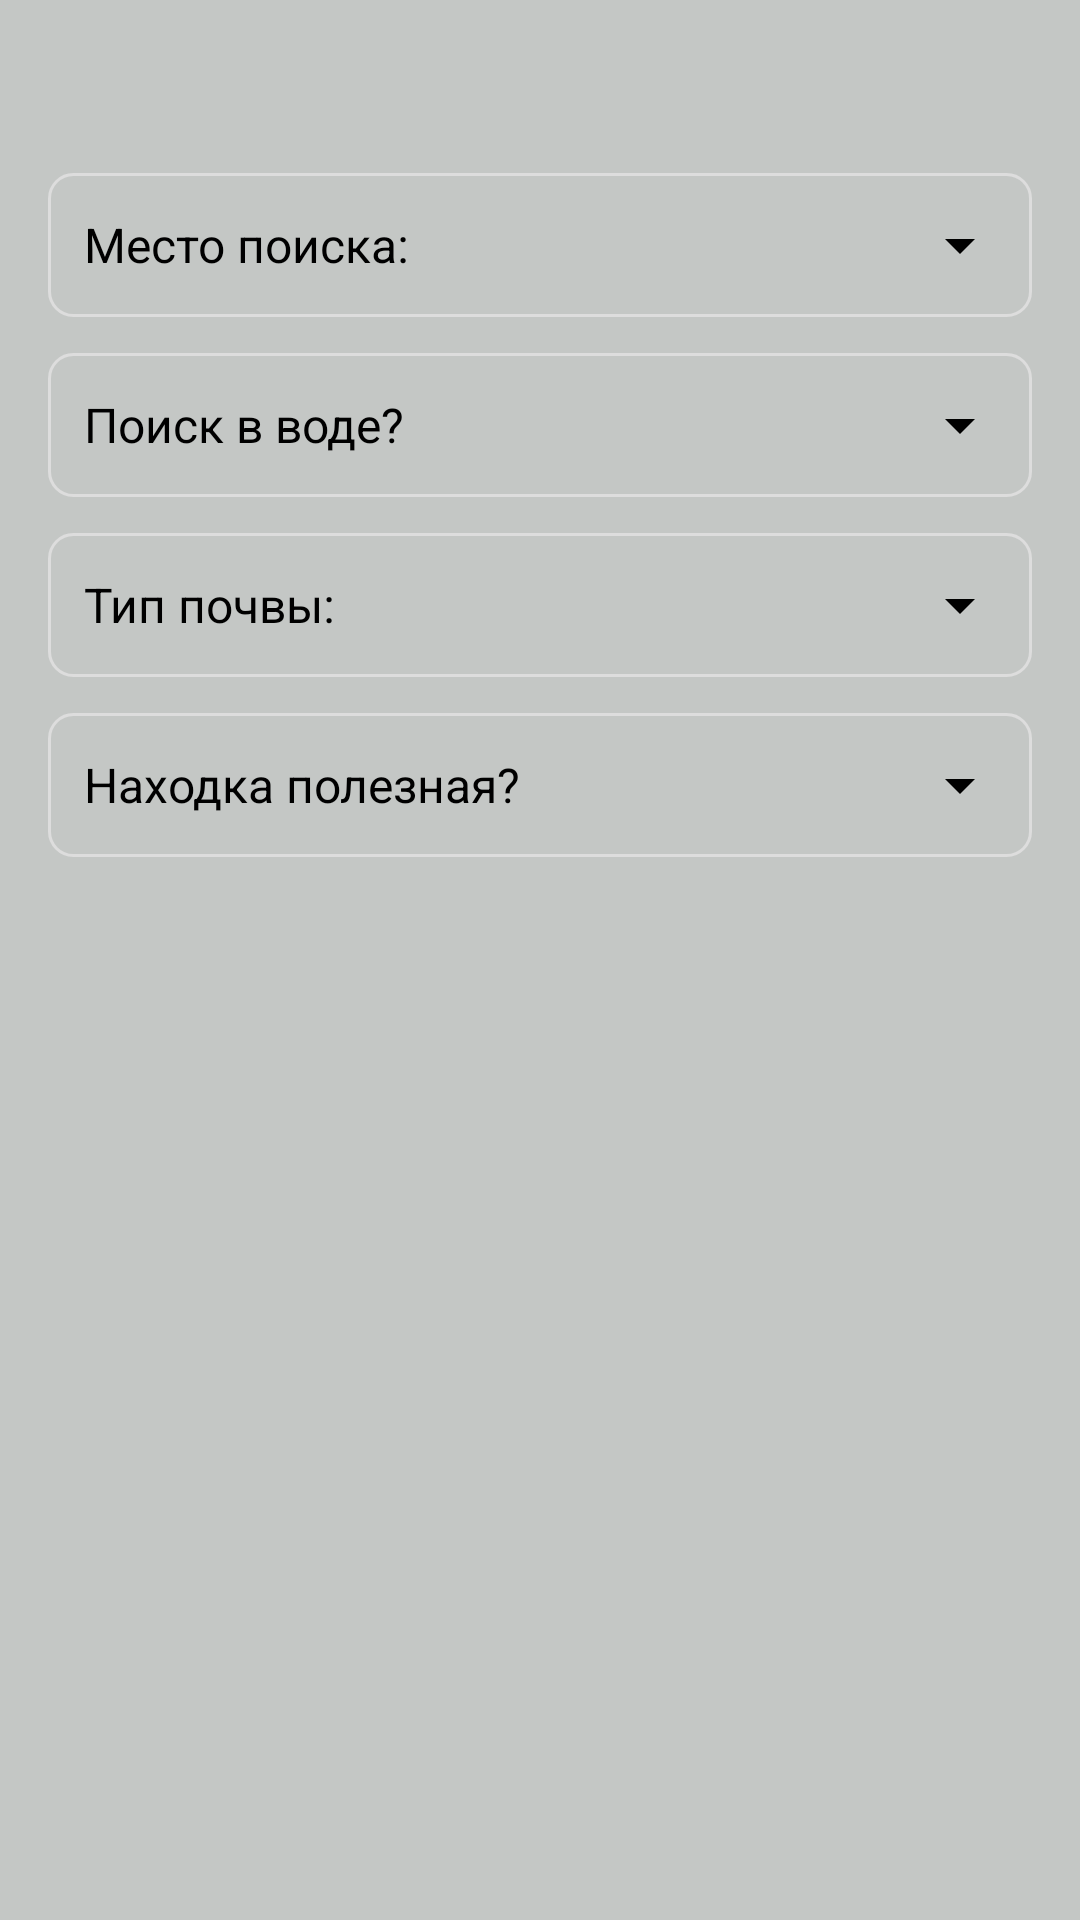

Screen size 1080px x 1920px. Icon name, then its center in pixels as [x,y]:
arrow drop down: [960,246], [960,426], [960,606], [960,786]
